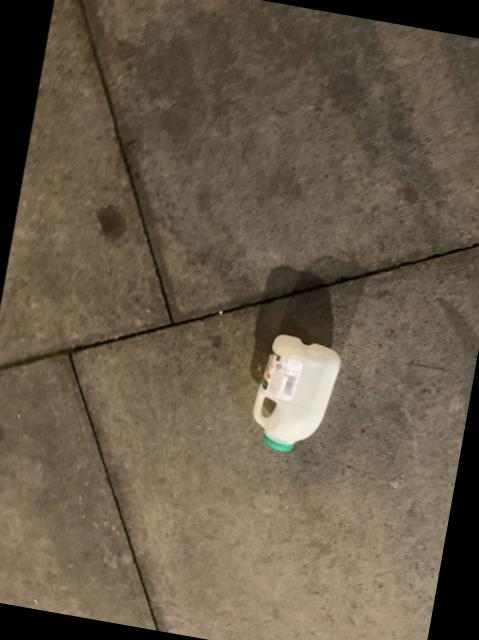plastic: (251, 335, 337, 451)
